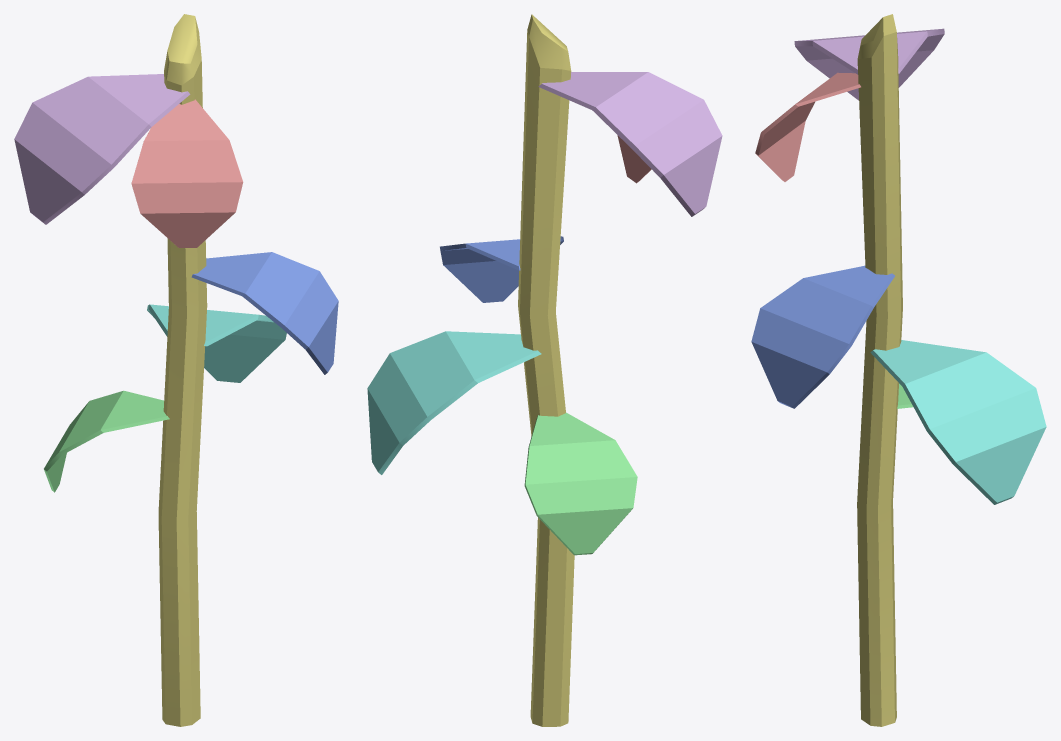
Rendered from MOD_Plant_low.fbx.
The picture shows the model from 3 angles, left to right: view 1: azimuth 30°, elevation 25°; view 2: azimuth 150°, elevation 25°; view 3: azimuth 270°, elevation 25°; orthographic projection.
Parts seen in each view (by area): view 1: stengel_low, bladvijf_low, bladvier_low, bladdrie_low, bladtwee_low, bladeen_low; view 2: stengel_low, bladvijf_low, bladeen_low, bladtwee_low, bladdrie_low, bladvier_low; view 3: stengel_low, bladtwee_low, bladdrie_low, bladvijf_low, bladvier_low.
Part boxes in pixels (x1,y1,x2,y2): stengel_low: (158, 14, 207, 726); bladvijf_low: (14, 74, 190, 224); bladvier_low: (131, 99, 243, 247); bladdrie_low: (191, 252, 338, 374); bladtwee_low: (147, 304, 286, 382); bladeen_low: (44, 390, 169, 492); stengel_low: (518, 14, 574, 726); bladvijf_low: (538, 72, 722, 216); bladeen_low: (524, 412, 637, 555); bladtwee_low: (367, 331, 541, 474); bladdrie_low: (440, 236, 563, 302); bladvier_low: (617, 135, 651, 183); stengel_low: (857, 14, 902, 726); bladtwee_low: (870, 340, 1046, 504); bladdrie_low: (751, 265, 894, 408); bladvijf_low: (794, 28, 944, 100); bladvier_low: (755, 72, 860, 181).
Size of the model in its own units: 0.7508 by 1.72 by 0.6499.
